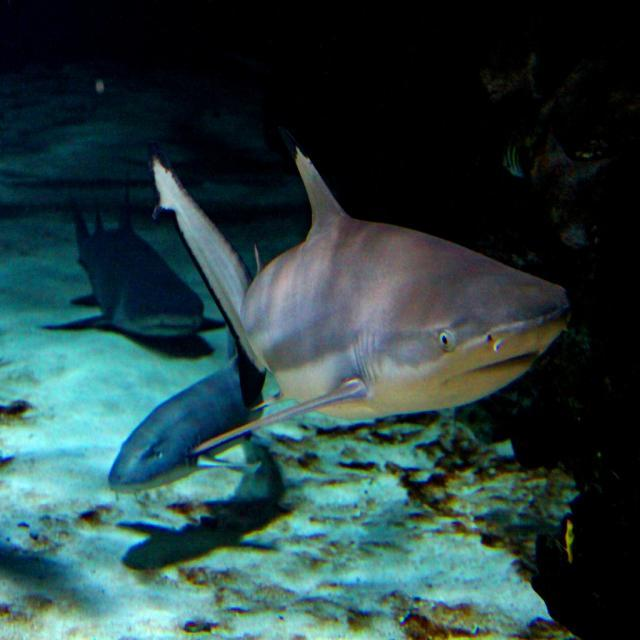Shark: (154, 147, 574, 450)
